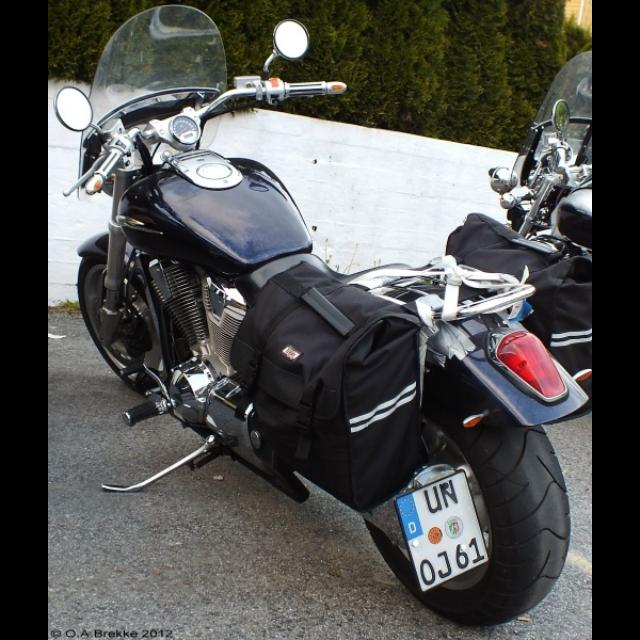d_license_plate: (393, 469, 489, 591)
